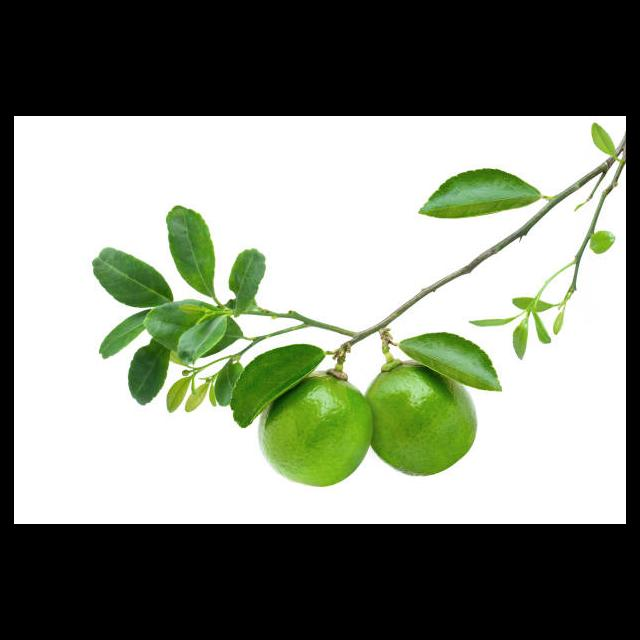lime: (260, 374, 373, 489), (363, 364, 478, 477)
